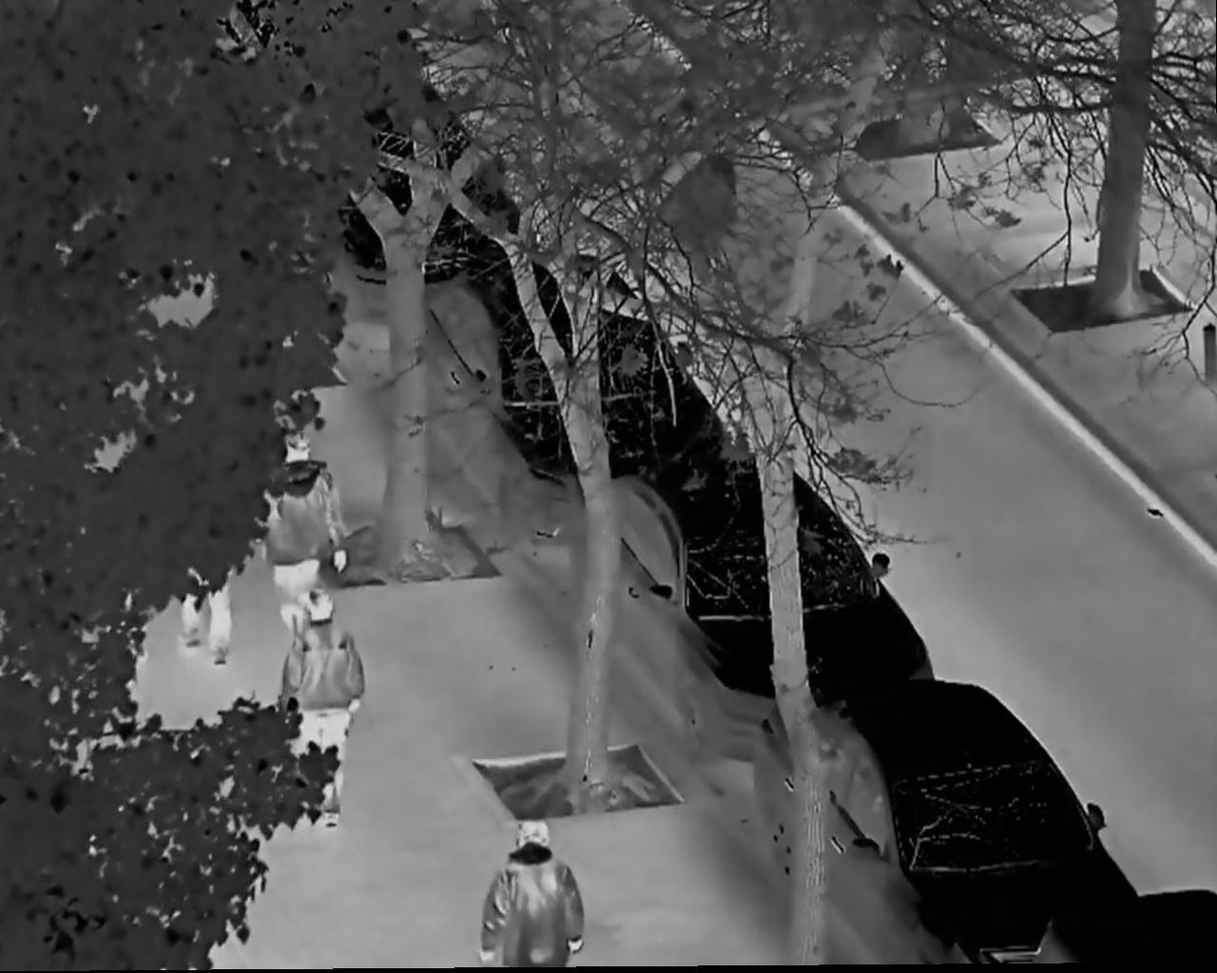person: (280, 584, 364, 828), (261, 434, 351, 647), (168, 441, 250, 656), (478, 821, 589, 973)
